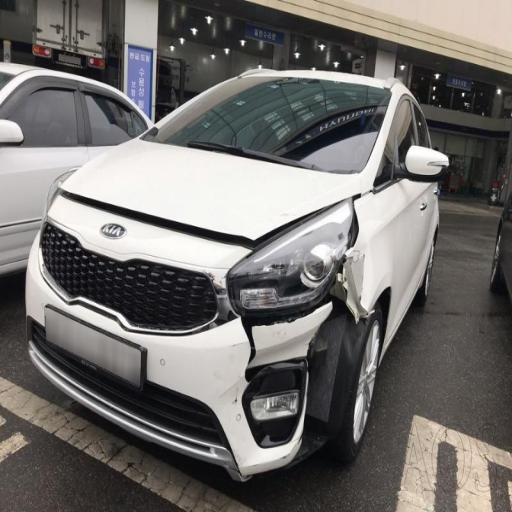broken: (214, 199, 380, 421)
